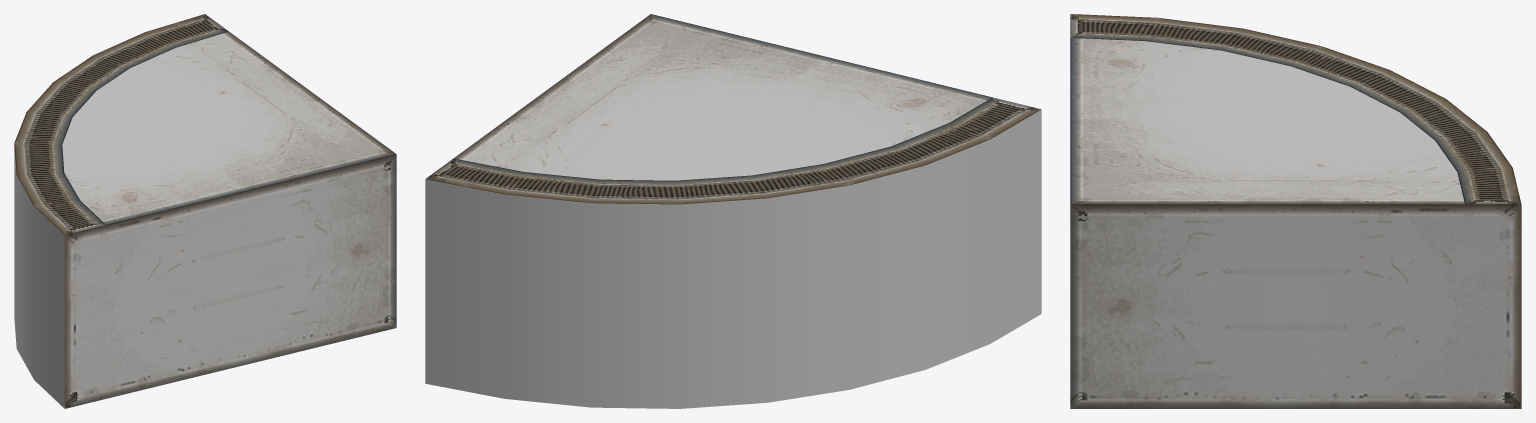
The model's file is scifi_floor_plateau_3.FBX.
3 views of the same model, side by side, from view 1: azimuth 30°, elevation 25°; view 2: azimuth 150°, elevation 25°; view 3: azimuth 270°, elevation 25° (orthographic). The views are drawn at different scales.
Visible parts, largest first — view 1: Plane355; view 2: Plane355; view 3: Plane355.
Part boxes in pixels (x1,y1,x2,y2): Plane355: (14, 14, 396, 408); Plane355: (425, 14, 1041, 408); Plane355: (1070, 14, 1521, 408).
Size of the model in its own units: 254 by 127 by 254.
